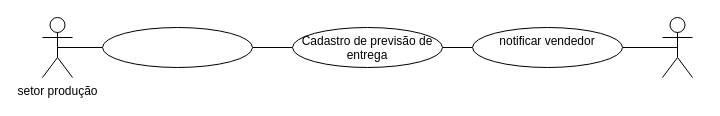
Image size: 720x116. Some labels were removed from this diagram. The box of each missing label's shape, as (x1, y1, x2, y2) in pixels:
Consulta de pedidos não anallisados: (102, 26, 252, 68)
Vendedor: (662, 16, 692, 78)
